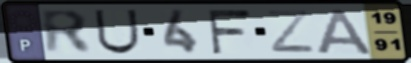4: (161, 8, 202, 56)
A: (314, 7, 375, 56)
F: (204, 8, 253, 56)
R: (37, 8, 97, 57)
U: (92, 8, 142, 56)
Z: (263, 9, 318, 55)
